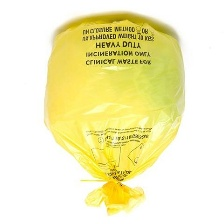plastic_bag: (41, 16, 198, 218)
